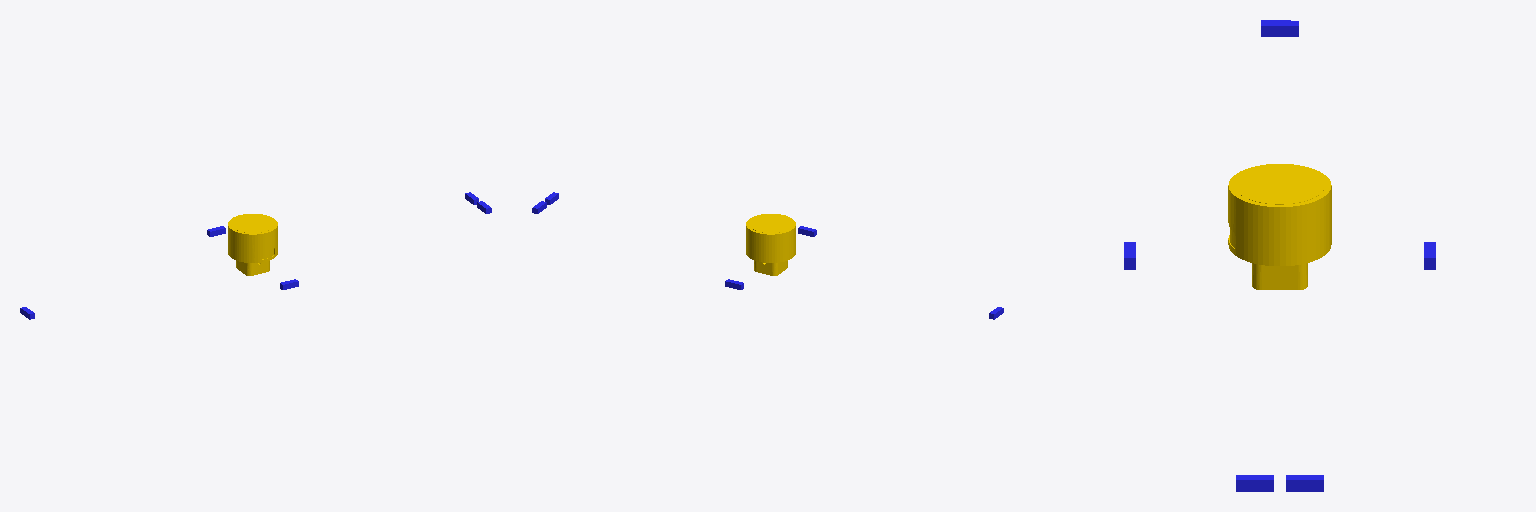
URDF robot description (spot):
<robot name="spot">


  <link name="world_link"/>
  <link name="base_link_0"/>
  <link name="base_link_1"/>
  
  <joint name="x" type="prismatic">
    <parent link="world_link"/>
    <child link="base_link_0"/>
    <axis xyz="1 0 0"/>
    <origin xyz="0 0 0.7"/>
    <limit effort="1000.0" lower="-2.5" upper="2.5" velocity="1.0"/>
  </joint>
  <joint name="y" type="prismatic">
    <parent link="base_link_0"/>
    <child link="base_link_1"/>
    <axis xyz="0 1 0"/>
    <limit effort="1000.0" lower="-2.5" upper="2.5" velocity="1.0"/>
  </joint>
  <joint name="theta" type="continuous">
    <parent link="base_link_1"/>
    <child link="base"/>
    <axis xyz="0 0 1"/>
    <limit effort="1000.0" velocity="1.5708"/>
  </joint>

  <link name="base">
    <visual>
      <origin xyz="0 0 0" rpy="0 0 0"/>
      <geometry>
        <mesh filename="link_models/base.obj"/>
      </geometry>
<material name="base"> <color rgba="1 0.8431 0 1"/></material>    </visual>
  </link>
  <link name="fl.hip">
    <visual>
      <origin xyz="0 0 0" rpy="0 0 0"/>
      <geometry>
        <mesh filename="link_models/fl.hip.obj"/>
      </geometry>
<material name="fl.hip"> <color rgba="0.2 0.2 0.2 1"/></material>    </visual>
  </link>

  <link name="frontleft_fisheye">
    <visual>
      <geometry>
        <box size="0.01 0.03 0.01"/>
      </geometry>
      <material name="frontleft_fisheye_color"> <color rgba="0.2 0.2 1.0 1"/></material> 
    </visual>
    <collision>
      <geometry>
        <box size="0.01 0.03 0.01"/>
      </geometry>
    </collision>
  </link>
  <link name="frontright_fisheye">
    <visual>
      <geometry>
        <box size="0.01 0.03 0.01"/>
      </geometry>
      <material name="frontright_fisheye_color"> <color rgba="0.2 0.2 1.0 1"/></material> 
    </visual>
    <collision>
      <geometry>
        <box size="0.01 0.03 0.01"/>
      </geometry>
    </collision>
  </link>
  <link name="left_fisheye">
    <visual>
      <geometry>
        <box size="0.01 0.03 0.01"/>
      </geometry>
      <material name="left_fisheye_color"> <color rgba="0.2 0.2 1.0 1"/></material> 
    </visual>
    <collision>
      <geometry>
        <box size="0.01 0.03 0.01"/>
      </geometry>
    </collision>
  </link>

  <link name="right_fisheye">
    <visual>
      <geometry>
        <box size="0.01 0.03 0.01"/>
      </geometry>
      <material name="right_fisheye_color"> <color rgba="0.2 0.2 1.0 1"/></material> 
    </visual>
    <collision>
      <geometry>
        <box size="0.01 0.03 0.01"/>
      </geometry>
    </collision>
  </link>

  <link name="back_fisheye">
    <visual>
      <geometry>
        <box size="0.01 0.03 0.01"/>
      </geometry>
      <material name="back_fisheye_color"> <color rgba="0.2 0.2 1.0 1"/></material> 
    </visual>
    <collision>
      <geometry>
        <box size="0.01 0.03 0.01"/>
      </geometry>
    </collision>
  </link>

  <joint name="frontleft_fisheye_joint" type="fixed">
    <origin xyz="0.43 -0.02 0" />
    <parent link="base"/>
    <child link="frontleft_fisheye"/>
  </joint>

  <joint name="frontright_fisheye_joint" type="fixed">
    <origin xyz="0.43 0.02 0" />
    <parent link="base"/>
    <child link="frontright_fisheye"/>
  </joint>

  <joint name="left_fisheye_joint" type="fixed">
    <origin xyz="0 0.12 0" rpy="0 0 1.57"/>
    <parent link="base"/>
    <child link="left_fisheye"/>
  </joint>

  <joint name="right_fisheye_joint" type="fixed">
    <origin xyz="0 -0.12 0" rpy="0 0 -1.57"/>
    <parent link="base"/>
    <child link="right_fisheye"/>
  </joint>

  <joint name="back_fisheye_joint" type="fixed">
    <origin xyz="-0.43 0 0" rpy="0 0 3.14"/>
    <parent link="base"/>
    <child link="back_fisheye"/>
  </joint>

  

  <joint name="fl.hx" type="revolute">
    <origin xyz="0.29785 0.05500 0.00000" rpy="0 0 0"/>
    <axis xyz="1 0 0"/>
    <parent link="base"/>
    <child link="fl.hip"/>
     <limit effort="1000" velocity="1000.00" lower="-0.797586" upper="0.775988"/>
  </joint>
  <link name="fl.uleg">
    <visual>
      <origin xyz="0 0 0" rpy="0 0 0"/>
      <geometry>
        <mesh filename="link_models/fl.uleg.obj"/>
      </geometry>
<material name="fl.uleg"> <color rgba="1 0.8431 0 1"/></material>    </visual>
  </link>
  <joint name="fl.hy" type="revolute">
    <origin xyz="0.0 0.110945 0.0" rpy="0 0 0"/>
    <axis xyz="0 1      0"/>
    <parent link="fl.hip"/>
    <child link="fl.uleg"/>
     <limit effort="1000" velocity="1000.00" lower="-0.877088" upper="2.26552"/>
  </joint>
  <link name="fl.lleg">
    <visual>
      <origin xyz="0 0 0" rpy="0 0 0"/>
      <geometry>
        <mesh filename="link_models/fl.lleg.obj"/>
      </geometry>
<material name="fl.lleg"> <color rgba="0.2 0.2 0.2 1"/></material>    </visual>
  </link>
  <joint name="fl.kn" type="revolute">
    <origin xyz="0.025 0.000 -0.3205" rpy="0 0 0"/>
    <axis xyz="0 1 0"/>
    <parent link="fl.uleg"/>
    <child link="fl.lleg"/>
     <limit effort="1000" velocity="1000.00" lower="-2.79627" upper="-0.295175"/>
  </joint>
  <link name="fr.hip">
    <visual>
      <origin xyz="0 0 0" rpy="0 0 0"/>
      <geometry>
        <mesh filename="link_models/fr.hip.obj"/>
      </geometry>
<material name="fr.hip"> <color rgba="0.2 0.2 0.2 1"/></material>    </visual>
  </link>
  <joint name="fr.hx" type="revolute">
    <origin xyz="0.29785 -0.05500 0.00000" rpy="0 0 0"/>
    <axis xyz="1 0 0"/>
    <parent link="base"/>
    <child link="fr.hip"/>
     <limit effort="1000" velocity="1000.00" lower="-0.785489" upper="0.782637"/>
  </joint>
  <link name="fr.uleg">
    <visual>
      <origin xyz="0 0 0" rpy="0 0 0"/>
      <geometry>
        <mesh filename="link_models/fr.uleg.obj"/>
      </geometry>
<material name="fr.uleg"> <color rgba="1 0.8431 0 1"/></material>    </visual>
  </link>
  <joint name="fr.hy" type="revolute">
    <origin xyz="0.0 -0.110945 0.0" rpy="0 0 0"/>
    <axis xyz="0  1      0"/>
    <parent link="fr.hip"/>
    <child link="fr.uleg"/>
     <limit effort="1000" velocity="1000.00" lower="-0.874232" upper="2.27176"/>
  </joint>
  <link name="fr.lleg">
    <visual>
      <origin xyz="0 0 0" rpy="0 0 0"/>
      <geometry>
        <mesh filename="link_models/fr.lleg.obj"/>
      </geometry>
<material name="fr.lleg"> <color rgba="0.2 0.2 0.2 1"/></material>    </visual>
  </link>
  <joint name="fr.kn" type="revolute">
    <origin xyz="0.025 0.000 -0.3205" rpy="0 0 0"/>
    <axis xyz="0 1 0"/>
    <parent link="fr.uleg"/>
    <child link="fr.lleg"/>
     <limit effort="1000" velocity="1000.00" lower="-2.78876" upper="-0.294079"/>
  </joint>
  <link name="hl.hip">
    <visual>
      <origin xyz="0 0 0" rpy="0 0 0"/>
      <geometry>
        <mesh filename="link_models/hl.hip.obj"/>
      </geometry>
<material name="hl.hip"> <color rgba="0.2 0.2 0.2 1"/></material>    </visual>
  </link>
  <joint name="hl.hx" type="revolute">
    <origin xyz="-0.29785 0.05500 0.00000" rpy="0 0 0"/>
    <axis xyz="1 0 0"/>
    <parent link="base"/>
    <child link="hl.hip"/>
     <limit effort="1000" velocity="1000.00" lower="-0.790276" upper="0.774845"/>
  </joint>
  <link name="hl.uleg">
    <visual>
      <origin xyz="0 0 0" rpy="0 0 0"/>
      <geometry>
        <mesh filename="link_models/hl.uleg.obj"/>
      </geometry>
<material name="hl.uleg"> <color rgba="1 0.8431 0 1"/></material>    </visual>
  </link>
  <joint name="hl.hy" type="revolute">
    <origin xyz="0.0 0.110945 0.0" rpy="0 0 0"/>
    <axis xyz="0 1      0"/>
    <parent link="hl.hip"/>
    <child link="hl.uleg"/>
     <limit effort="1000" velocity="1000.00" lower="-0.884654" upper="2.25395"/>
  </joint>
  <link name="hl.lleg">
    <visual>
      <origin xyz="0 0 0" rpy="0 0 0"/>
      <geometry>
        <mesh filename="link_models/hl.lleg.obj"/>
      </geometry>
<material name="hl.lleg"> <color rgba="0.2 0.2 0.2 1"/></material>    </visual>
  </link>
  <joint name="hl.kn" type="revolute">
    <origin xyz="0.025 0.000 -0.3205" rpy="0 0 0"/>
    <axis xyz="0 1 0"/>
    <parent link="hl.uleg"/>
    <child link="hl.lleg"/>
     <limit effort="1000" velocity="1000.00" lower="-2.78558" upper="-0.294352"/>
  </joint>
  <link name="hr.hip">
    <visual>
      <origin xyz="0 0 0" rpy="0 0 0"/>
      <geometry>
        <mesh filename="link_models/hr.hip.obj"/>
      </geometry>
<material name="hr.hip"> <color rgba="0.2 0.2 0.2 1"/></material>    </visual>
  </link>
  <joint name="hr.hx" type="revolute">
    <origin xyz="-0.29785 -0.05500 0.00000" rpy="0 0 0"/>
    <axis xyz="1 0 0"/>
    <parent link="base"/>
    <child link="hr.hip"/>
     <limit effort="1000" velocity="1000.00" lower="-0.780675" upper="0.793109"/>
  </joint>
  <link name="hr.uleg">
    <visual>
      <origin xyz="0 0 0" rpy="0 0 0"/>
      <geometry>
        <mesh filename="link_models/hr.uleg.obj"/>
      </geometry>
<material name="hr.uleg"> <color rgba="1 0.8431 0 1"/></material>    </visual>
  </link>
  <joint name="hr.hy" type="revolute">
    <origin xyz="0.0 -0.110945 0.0" rpy="0 0 0"/>
    <axis xyz="0  1      0"/>
    <parent link="hr.hip"/>
    <child link="hr.uleg"/>
     <limit effort="1000" velocity="1000.00" lower="-0.8793" upper="2.26657"/>
  </joint>
  <link name="hr.lleg">
    <visual>
      <origin xyz="0 0 0" rpy="0 0 0"/>
      <geometry>
        <mesh filename="link_models/hr.lleg.obj"/>
      </geometry>
<material name="hr.lleg"> <color rgba="0.2 0.2 0.2 1"/></material>    </visual>
  </link>
  <joint name="hr.kn" type="revolute">
    <origin xyz="0.025 0.000 -0.3205" rpy="0 0 0"/>
    <axis xyz="0 1 0"/>
    <parent link="hr.uleg"/>
    <child link="hr.lleg"/>
     <limit effort="1000" velocity="1000.00" lower="-2.78787" upper="-0.28764"/>
  </joint>
  <link name="arm0.link_sh0">
    <visual>
      <origin xyz="0 0 0" rpy="0 0 0"/>
      <geometry>
        <mesh filename="link_models/arm0.link_sh0.obj"/>
      </geometry>
<material name="arm0.link_sh0"> <color rgba="0.2 0.2 0.2 1"/></material>    </visual>
  </link>
  <joint name="arm0.sh0" type="revolute">
    <origin xyz="0.292 0.0 0.188" rpy="0 0 0"/>
    <axis xyz="0 0 1"/>
    <parent link="base"/>
    <child link="arm0.link_sh0"/>
     <limit effort="1000" velocity="1000.00" lower="-2.61799387799149441136" upper="3.14159265358979311599"/>
  </joint>
  <link name="arm0.link_sh1">
    <visual>
      <origin xyz="0 0 0" rpy="0 0 0"/>
      <geometry>
        <mesh filename="link_models/arm0.link_sh1.obj"/>
      </geometry>
<material name="arm0.link_sh1"> <color rgba="0.2 0.2 0.2 1"/></material>    </visual>
  </link>
  <joint name="arm0.sh1" type="revolute">
    <origin xyz="0.0 0.0 0.0" rpy="0 0 0"/>
    <axis xyz="0 1 0"/>
    <parent link="arm0.link_sh0"/>
    <child link="arm0.link_sh1"/>
     <limit effort="1000" velocity="1000.00" lower="-3.14159265358979311599" upper="0.52359877559829881565"/>
  </joint>
  <link name="arm0.link_hr0">
    <visual>
      <origin xyz="0 0 0" rpy="0 0 0"/>
      <geometry>
        <mesh filename="link_models/arm0.link_hr0.obj"/>
      </geometry>
<material name="arm0.link_hr0"> <color rgba="0.2 0.2 0.2 1"/></material>    </visual>
  </link>
  <joint name="arm0.hr0" type="revolute">
    <origin xyz="0.0 0.0 0.0" rpy="0 0 0"/>
    <axis xyz="1 0 0"/>
    <parent link="arm0.link_sh1"/>
    <child link="arm0.link_hr0"/>
     <limit effort="1000" velocity="1000.00" lower="-1e6" upper="1e6"/>
  </joint>
  <link name="arm0.link_el0">
    <visual>
      <origin xyz="0 0 0" rpy="0 0 0"/>
      <geometry>
        <mesh filename="link_models/arm0.link_el0.obj"/>
      </geometry>
<material name="arm0.link_el0"> <color rgba="0.2 0.2 0.2 1"/></material>    </visual>
  </link>
  <joint name="arm0.el0" type="revolute">
    <origin xyz="0.3385 0 0" rpy="0 0 0"/>
    <axis xyz="0 1 0"/>
    <parent link="arm0.link_hr0"/>
    <child link="arm0.link_el0"/>
     <limit effort="1000" velocity="1000.00" lower="0" upper="3.14159265358979311599"/>
  </joint>
  <link name="arm0.link_el1">
    <visual>
      <origin xyz="0 0 0" rpy="0 0 0"/>
      <geometry>
        <mesh filename="link_models/arm0.link_el1.obj"/>
      </geometry>
<material name="arm0.link_el1"> <color rgba="0.2 0.2 0.2 1"/></material>    </visual>
  </link>
  <joint name="arm0.el1" type="revolute">
    <origin xyz="0.40330 0.0 0.0750" rpy="0 0 0"/>
    <axis xyz="1 0 0"/>
    <parent link="arm0.link_el0"/>
    <child link="arm0.link_el1"/>
     <limit effort="1000" velocity="1000.00" lower="-2.79252680319092716487" upper="2.79252680319092716487"/>
  </joint>
  <link name="arm0.link_wr0">
    <visual>
      <origin xyz="0 0 0" rpy="0 0 0"/>
      <geometry>
        <mesh filename="link_models/arm0.link_wr0.obj"/>
      </geometry>
<material name="arm0.link_wr0"> <color rgba="0.2 0.2 0.2 1"/></material>    </visual>
  </link>
  <joint name="arm0.wr0" type="revolute">
    <origin xyz="0.0 0.0 0.0" rpy="0 0 0"/>
    <axis xyz="0 1 0"/>
    <parent link="arm0.link_el1"/>
    <child link="arm0.link_wr0"/>
     <limit effort="1000" velocity="1000.00" lower="-1.83259571459404613236" upper="1.83259571459404613236"/>
  </joint>
  <link name="arm0.link_wr1">
    <visual>
      <origin xyz="0 0 0" rpy="0 0 0"/>
      <geometry>
        <mesh filename="link_models/arm0.link_wr1.obj"/>
      </geometry>
<material name="arm0.link_wr1"> <color rgba="0.2 0.2 0.2 1"/></material>    </visual>
  </link>
  <joint name="arm0.wr1" type="revolute">
    <origin xyz="0.0 0.0 0.0" rpy="0 0 0"/>
    <axis xyz="1 0 0"/>
    <parent link="arm0.link_wr0"/>
    <child link="arm0.link_wr1"/>
     <limit effort="1000" velocity="1000.00" lower="-2.87979326579064354163" upper="2.87979326579064354163"/>
  </joint>
  <link name="arm0.link_fngr">
    <visual>
      <origin xyz="0 0 0" rpy="0 0 0"/>
      <geometry>
        <mesh filename="link_models/arm0.link_fngr.obj"/>
      </geometry>
<material name="arm0.link_fngr"> <color rgba="0.2 0.2 0.2 1"/></material>    </visual>
  </link>
  <joint name="arm0.f1x" type="revolute">
    <origin xyz="0.11745 0 0.014820" rpy="0 0 0"/>
    <axis xyz="0.0 1.0 0.0"/>
    <parent link="arm0.link_wr1"/>
    <child link="arm0.link_fngr"/>
     <limit effort="1000" velocity="1000.00" lower="-1.57" upper="0.0"/>
  </joint>
</robot>

--- Render facts (derived) ---
3 views of the same robot in one strip: view 1: azimuth 30°, elevation 25°; view 2: azimuth 150°, elevation 25°; view 3: azimuth 270°, elevation 25° (orthographic).
Robot: spot — 29 links, 28 joints (20 revolute, 1 continuous, 2 prismatic, 5 fixed); root link world_link; default pose: joints at zero except 4 at the middle of their limits (fl.kn = -1.55, fr.kn = -1.54, hl.kn = -1.54, hr.kn = -1.54).
Visible links, largest first — view 1: base; view 2: base; view 3: base, frontleft_fisheye, frontright_fisheye, back_fisheye.
Boxes of the visible links, x1,y1,x2,y2 form: base: (228,214,277,275); base: (746,214,795,275); base: (1228,164,1331,289); frontleft_fisheye: (1236,475,1273,491); frontright_fisheye: (1286,475,1323,491); back_fisheye: (1261,20,1298,36).
Bounding box of the posed robot: 0.87 × 0.25 × 0.0825 m (x, y, z).
Meshes: 21 distinct files referenced, 1 mesh visuals loaded (1 OBJ); not drawn: 20 (reference not matched to a file when rendering).